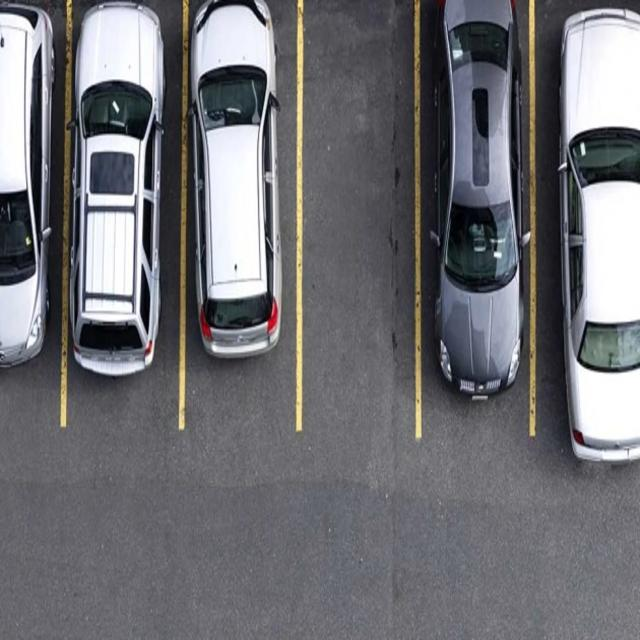libre: (301, 3, 419, 439)
ocupado: (421, 0, 536, 439), (184, 2, 300, 428), (535, 0, 640, 465), (76, 5, 184, 431), (0, 2, 58, 434)
